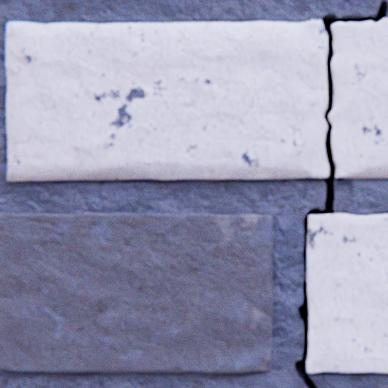brick: (0, 213, 274, 373), (307, 214, 387, 372)
broken_brick: (7, 21, 328, 180), (328, 19, 387, 178)
crack: (294, 0, 387, 387)
